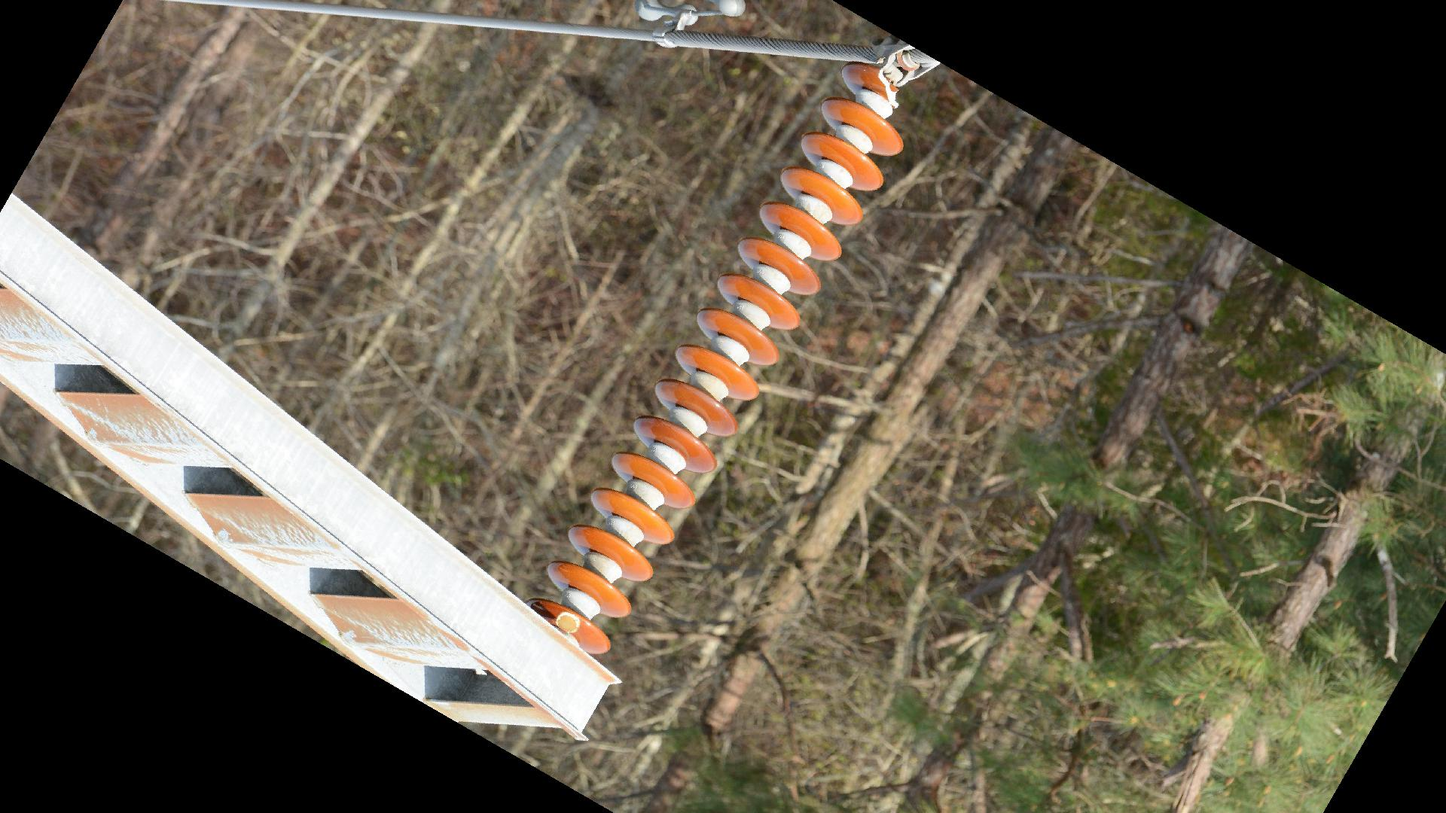insulator: (525, 50, 914, 653)
insulator_breakage: (871, 64, 905, 115)
